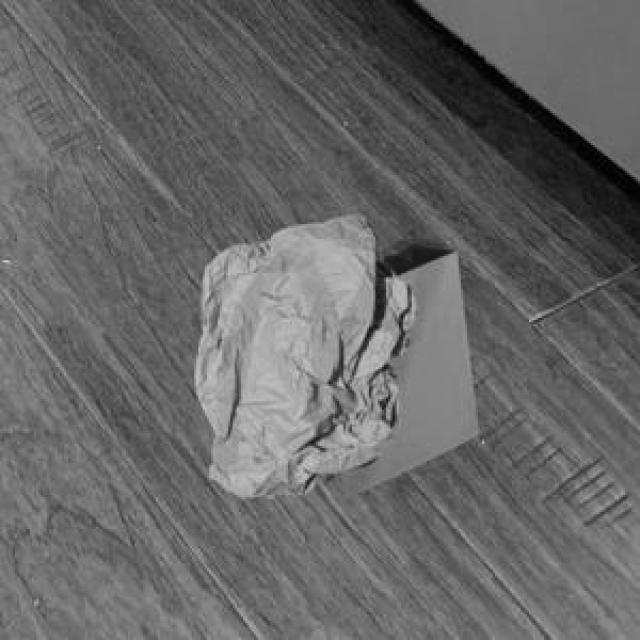paper: (190, 211, 412, 493), (318, 233, 474, 495)
